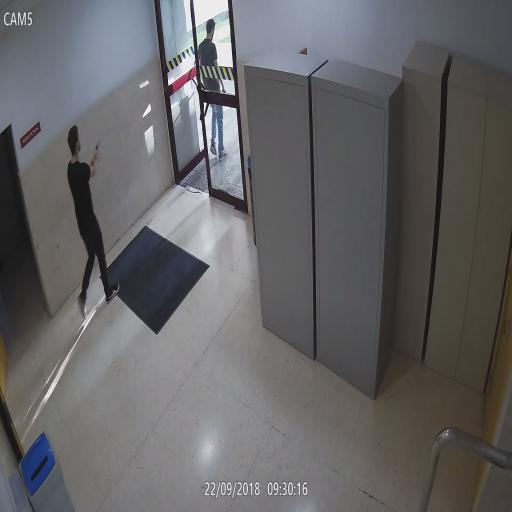Handgun: (93, 138, 103, 161)
